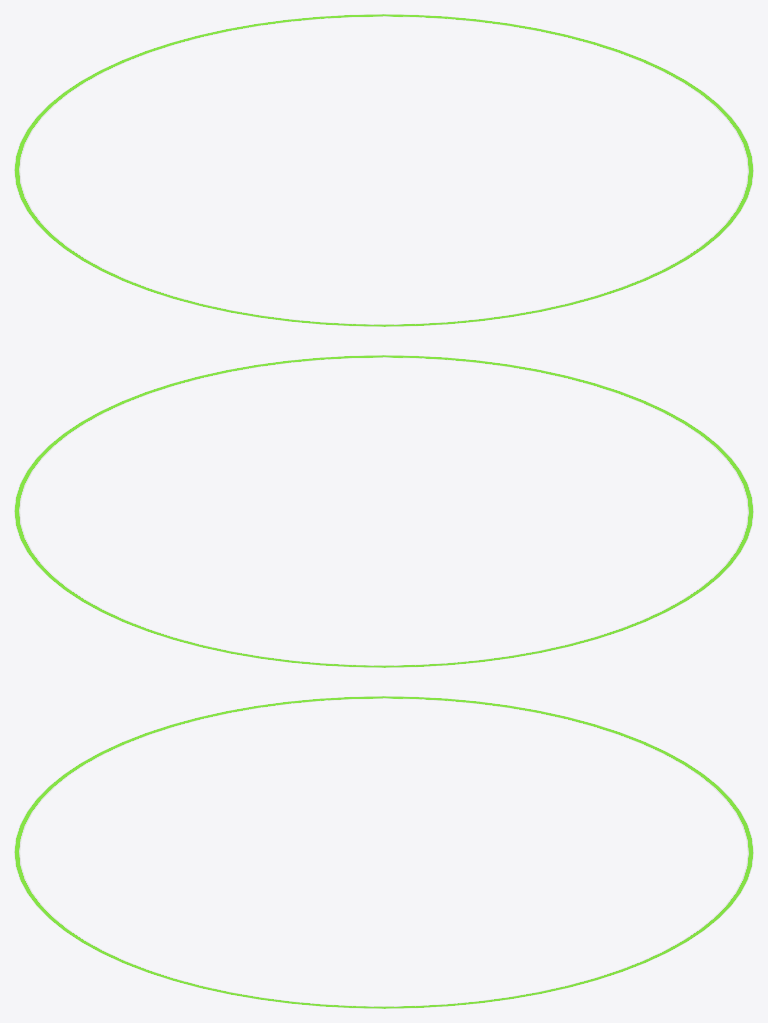
The model's file is bigscan_outWave.FBX.
3 views of the same model, one above another, from view 1: azimuth 30°, elevation 25°; view 2: azimuth 150°, elevation 25°; view 3: azimuth 270°, elevation 25° (orthographic).
Visible parts, largest first — view 1: scanBase; view 2: scanBase; view 3: scanBase.
Boxes of the visible parts, bbox=[...] form: scanBase: bbox=[14, 14, 753, 326]; scanBase: bbox=[14, 355, 753, 667]; scanBase: bbox=[14, 696, 753, 1008].
Size of the model in its own units: 129 by 0.024 by 129.
Materials: 1 (1 with a texture image).
